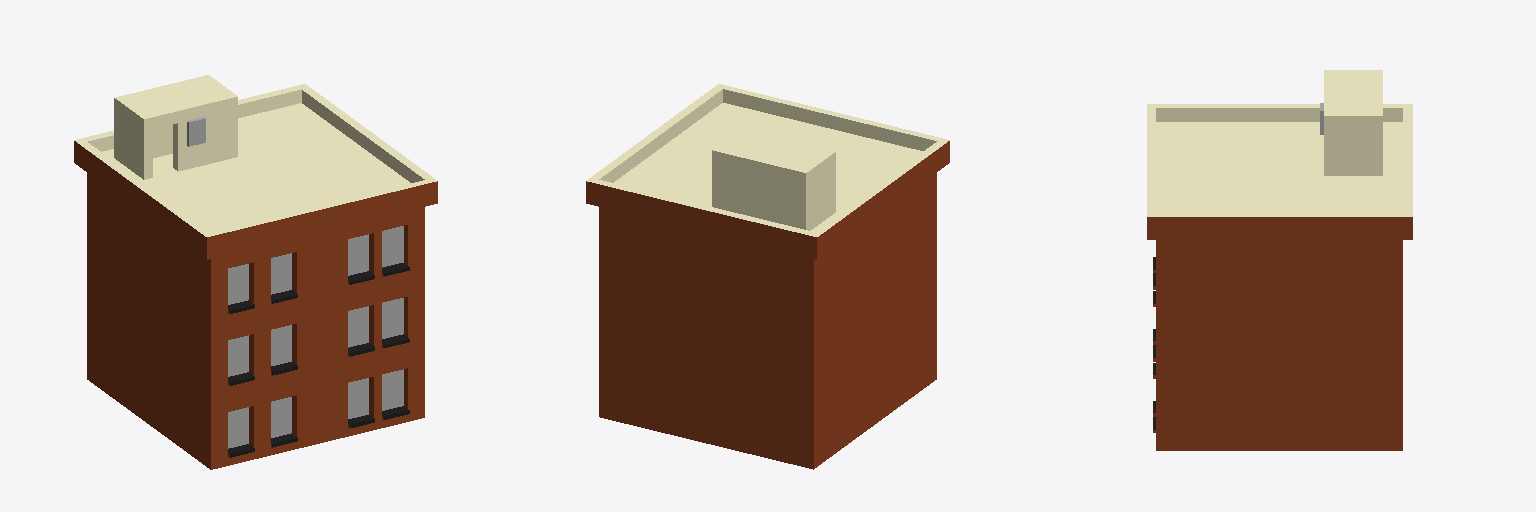
3 views of the same model, side by side, from view 1: azimuth 30°, elevation 25°; view 2: azimuth 150°, elevation 25°; view 3: azimuth 270°, elevation 25° (orthographic).
Parts seen in each view (by area): view 1: Cube; view 2: Cube; view 3: Cube.
Boxes of the visible parts, x1,y1,x2,y2 form: Cube: [74, 75, 437, 469]; Cube: [586, 84, 949, 469]; Cube: [1147, 70, 1412, 450].
Bounding box in the file's own units: 2.16 × 2.54 × 2.15.
Materials: 1 (1 with a texture image).